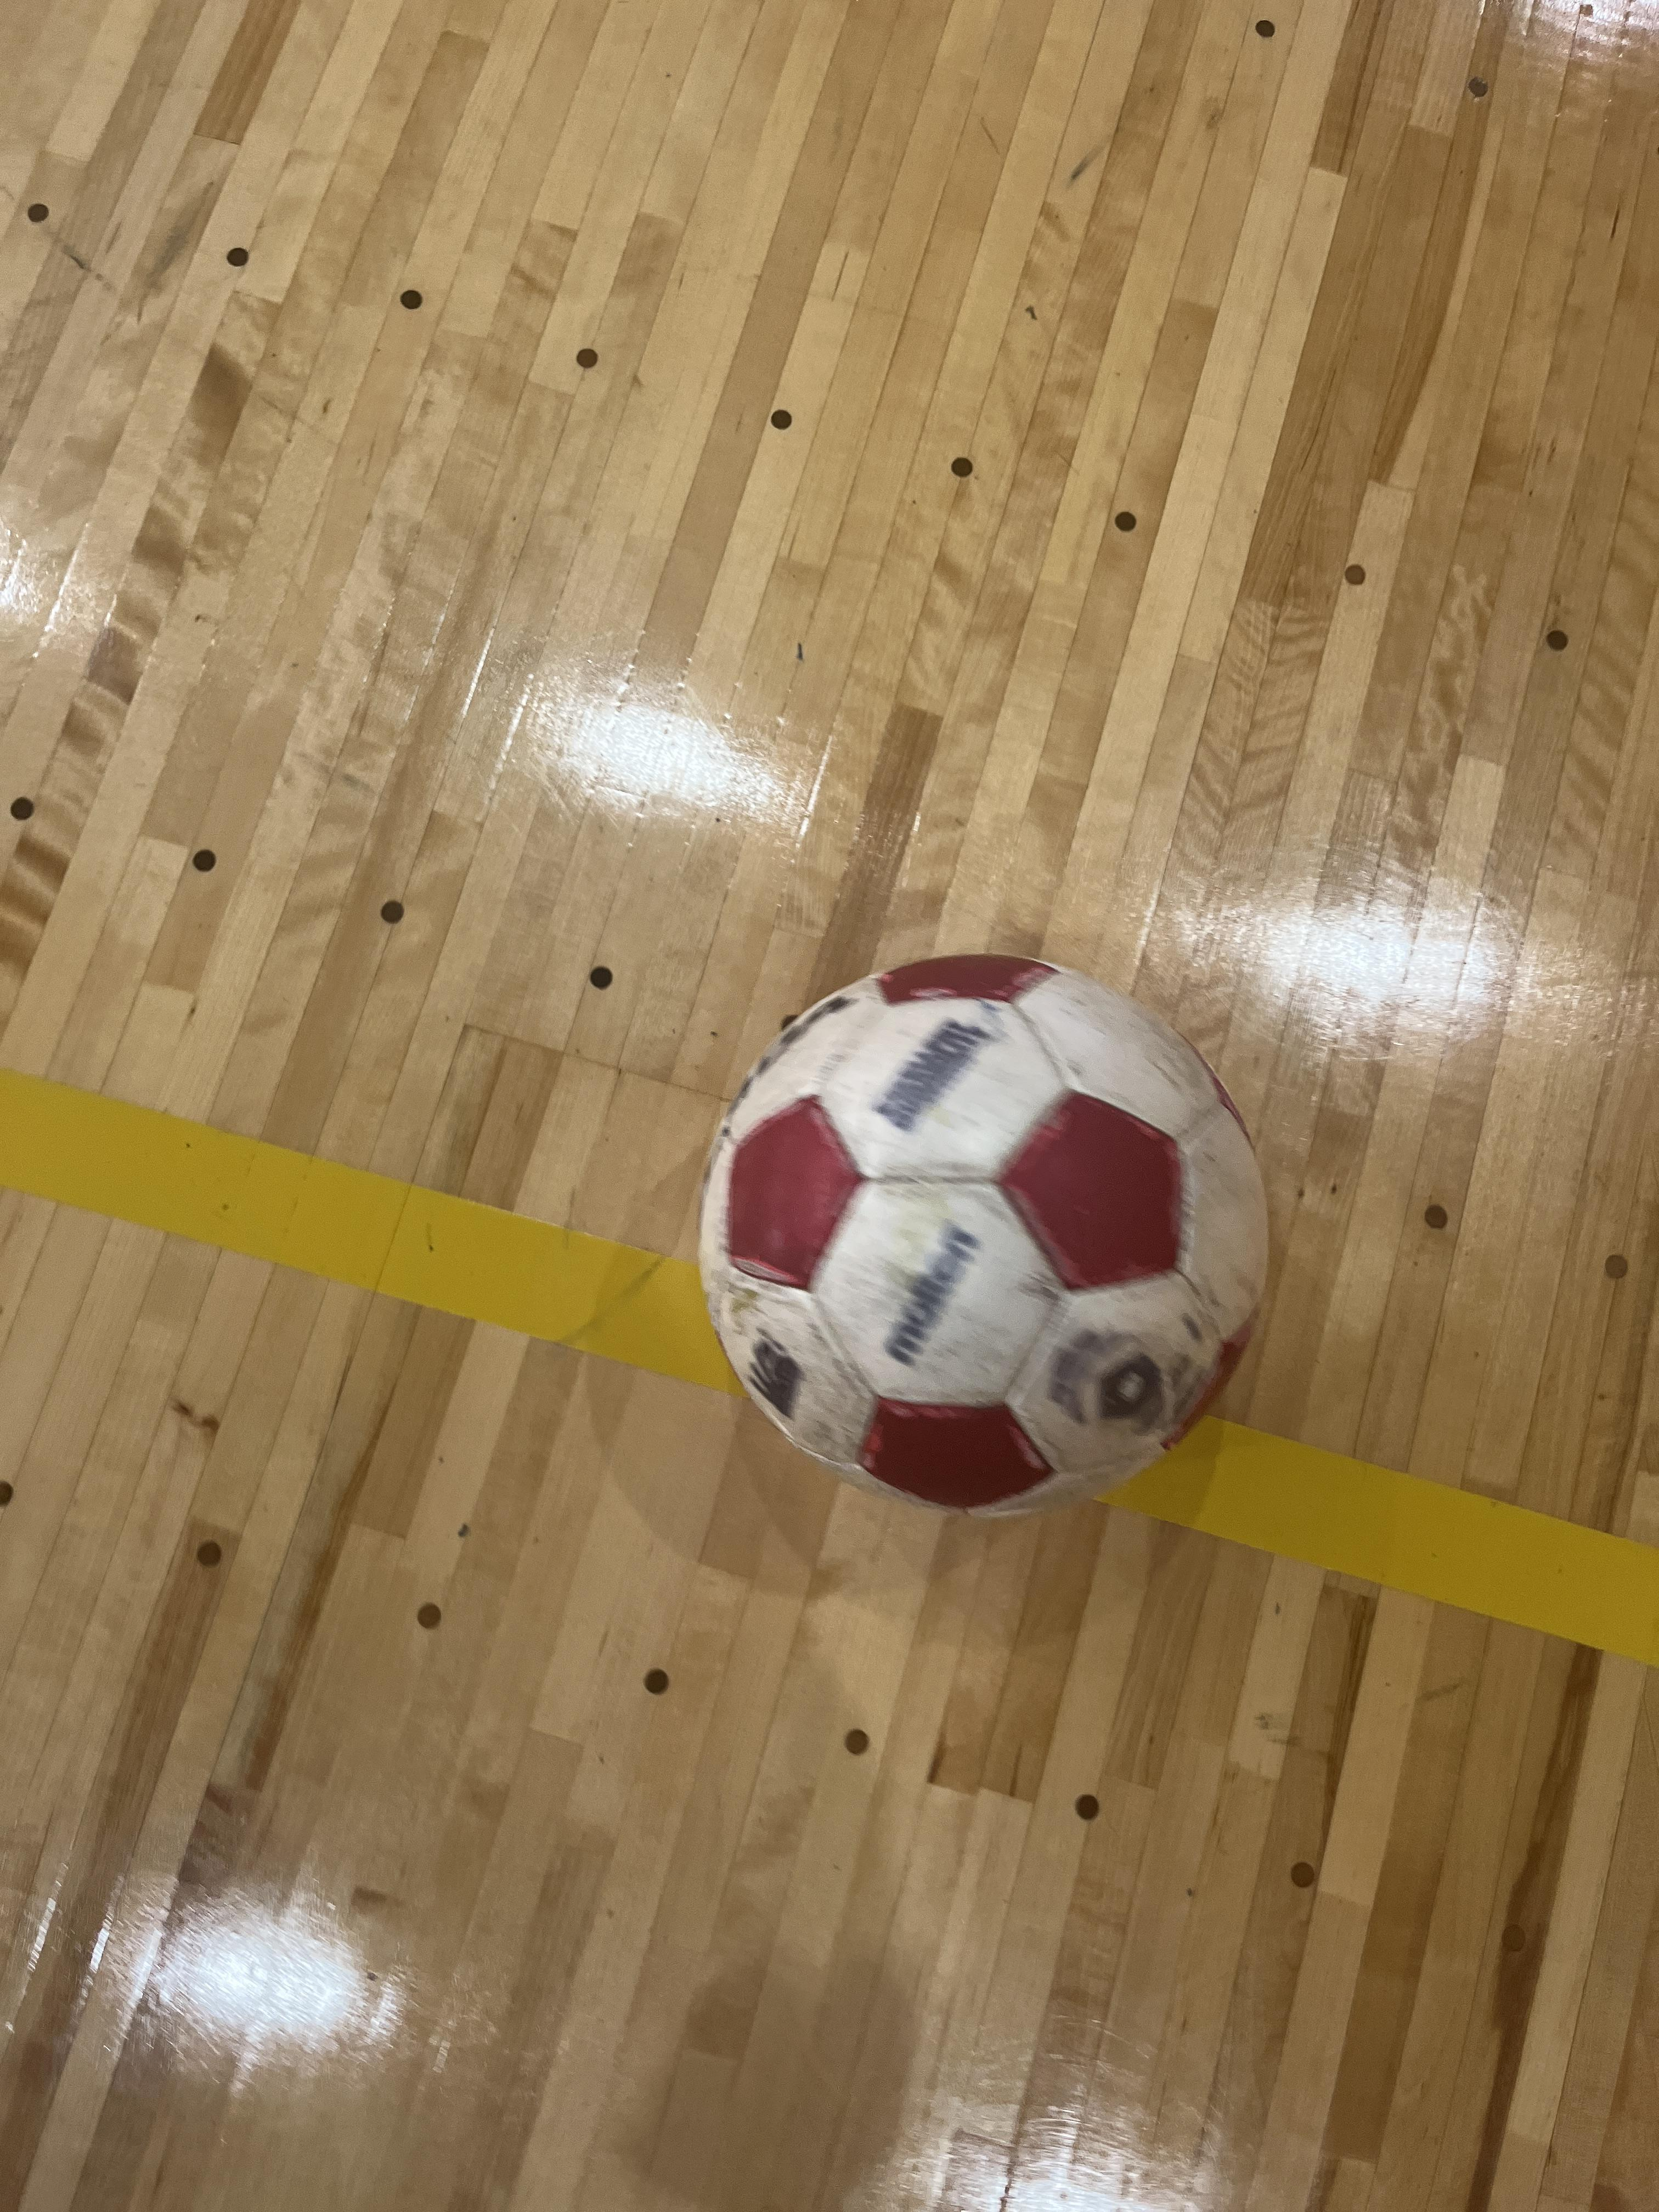Sports-Ball: (694, 951, 1286, 1515)
